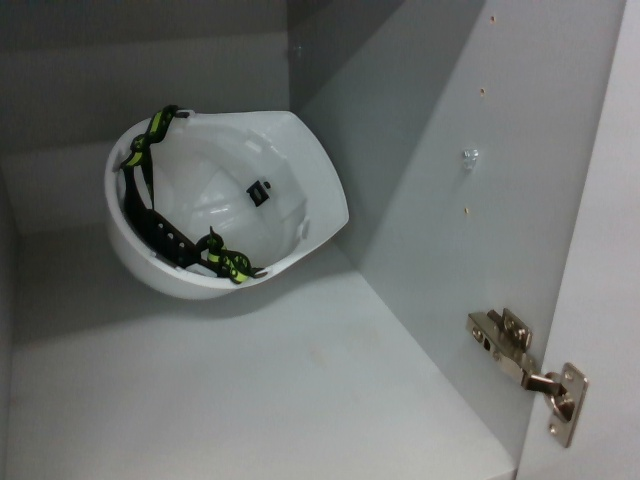helmet: (92, 103, 353, 308)
